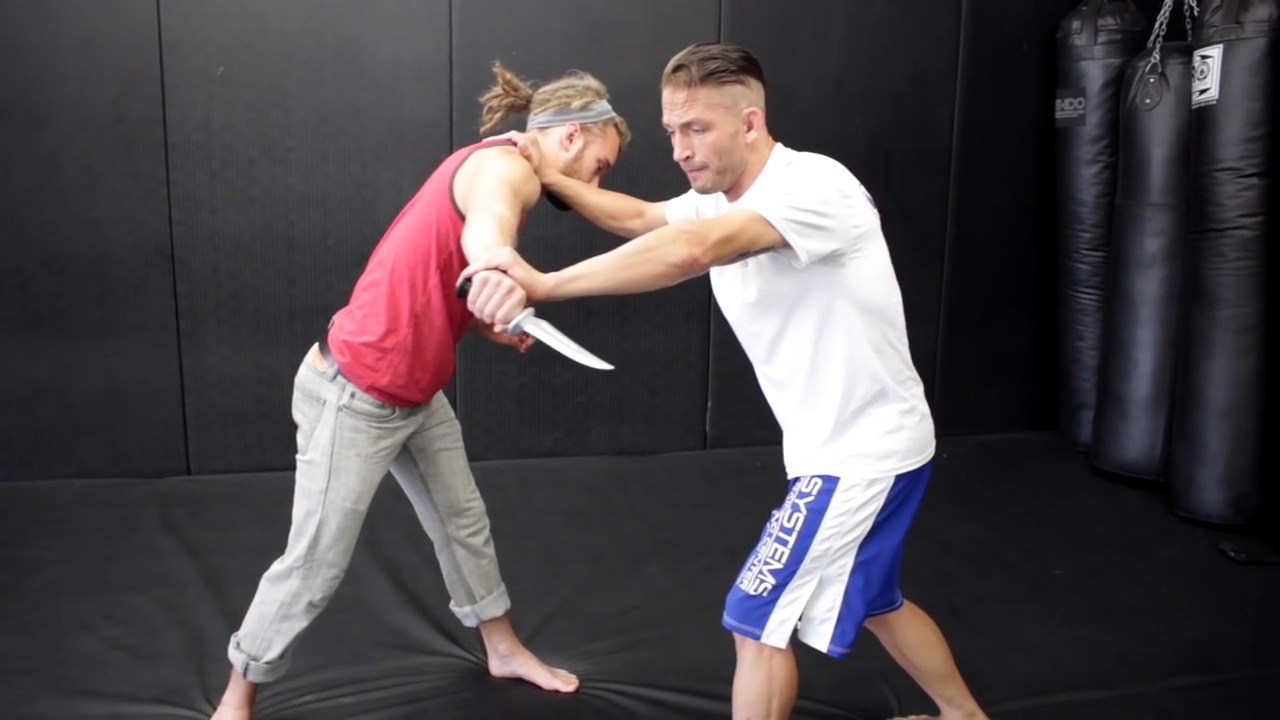knife: (446, 261, 625, 381)
